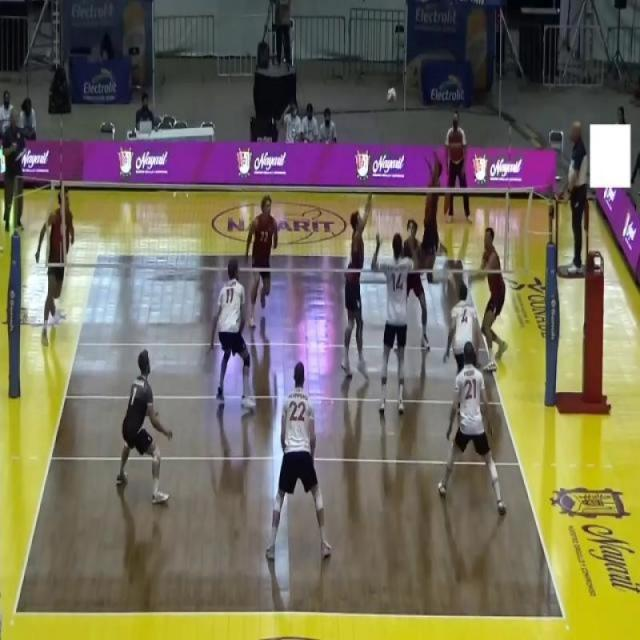volleyball: (387, 87, 398, 105)
